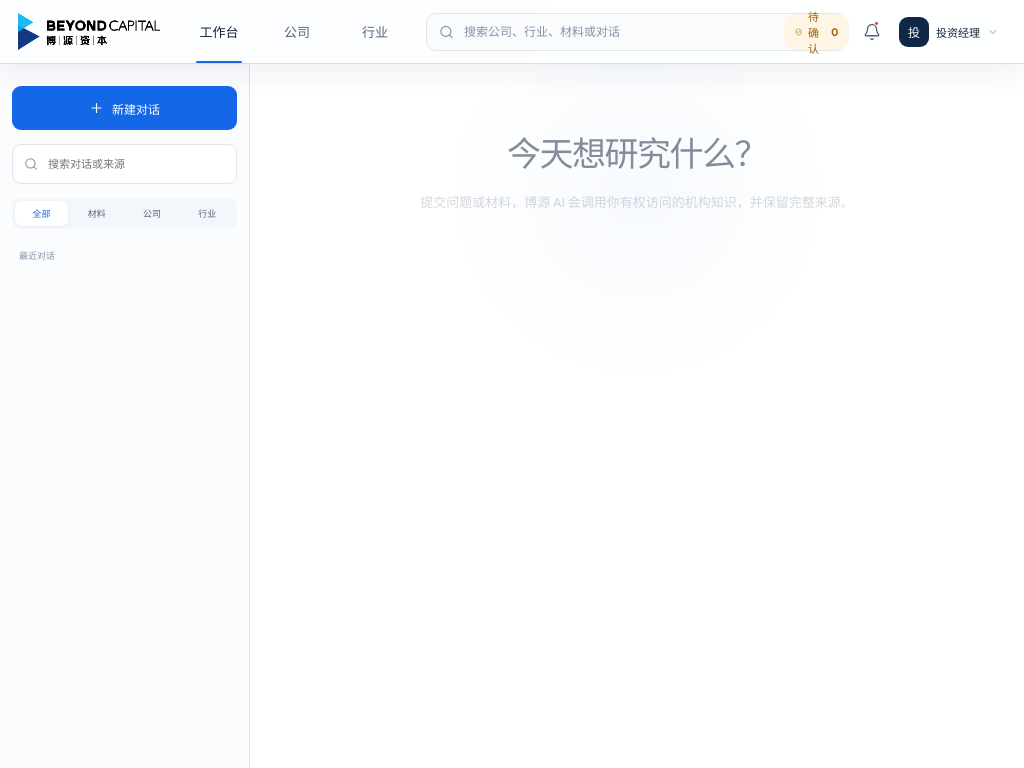
it: 全局待确认数量 › 轮询刷新长任务通知，并保留候选深链参数
Click the button named "通知". click: (872, 32)
box: x1=857 y1=14 x2=887 y2=50
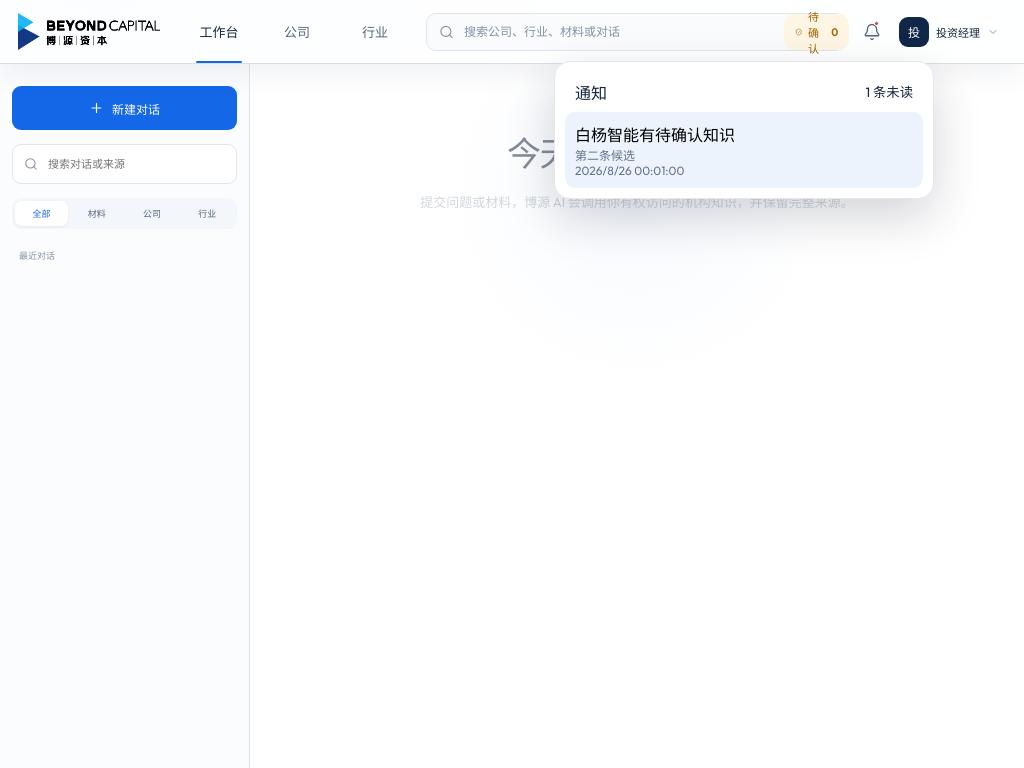
Click the button "白杨智能有待确认知识 第二条候选 2026/8/26 00:01:00". click: (655, 134)
box: x1=565 y1=112 x2=923 y2=188
(page scrolled)
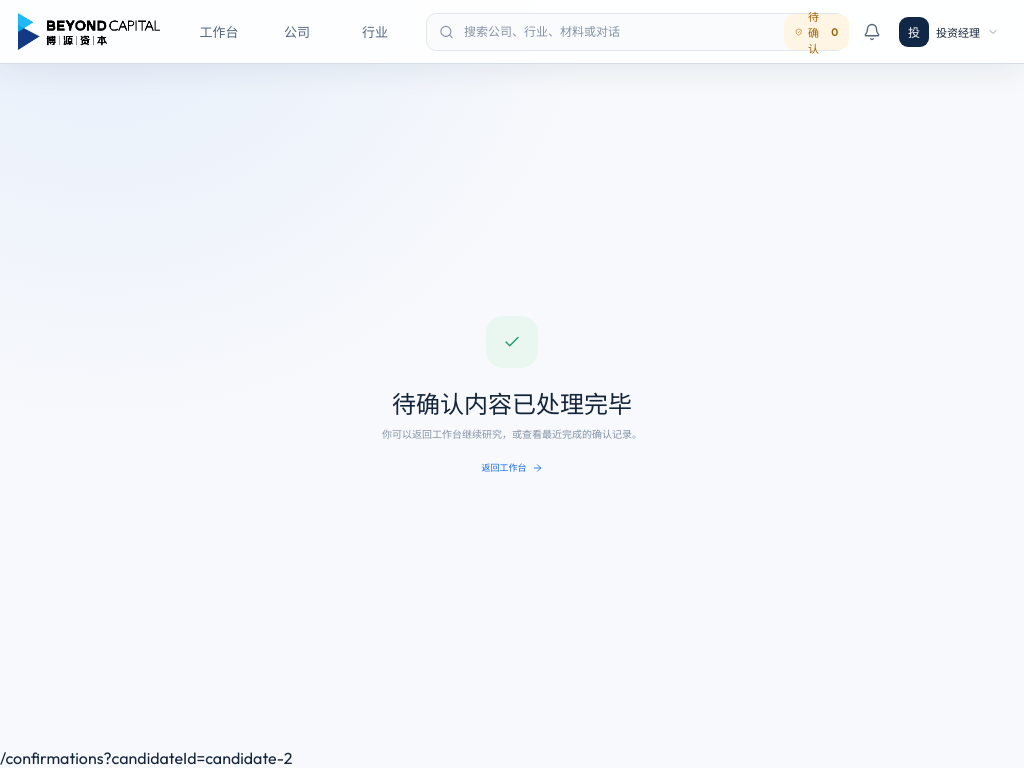
Now the text with test id "location" reads "/confirmations?candidateId=candidate-2", box x1=0 y1=748 x2=292 y2=767
